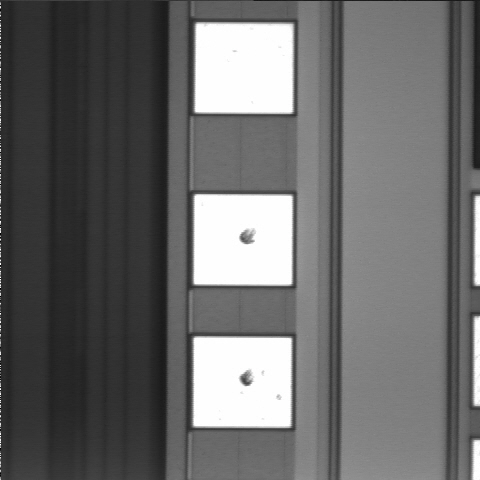pad: (195, 23, 293, 114), (194, 194, 292, 285), (193, 337, 291, 427)
